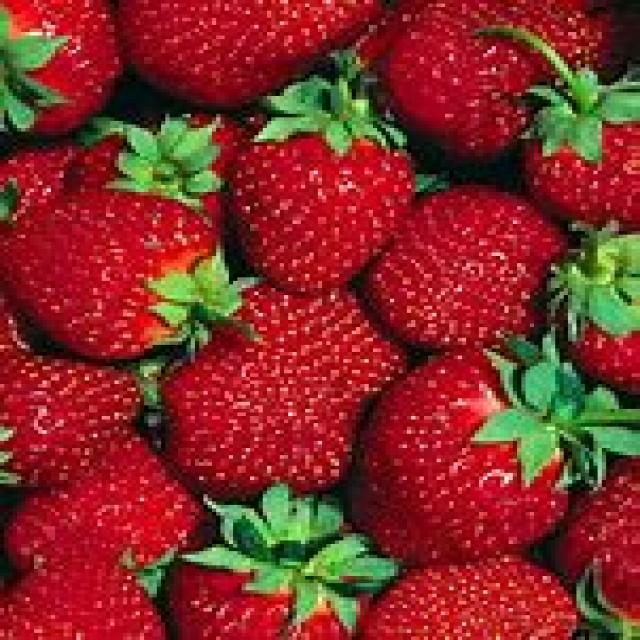Berries strawberries/blueberries: (377, 349, 569, 557), (0, 191, 207, 361), (168, 361, 342, 499), (230, 128, 414, 244), (421, 185, 541, 338), (178, 551, 335, 640)
